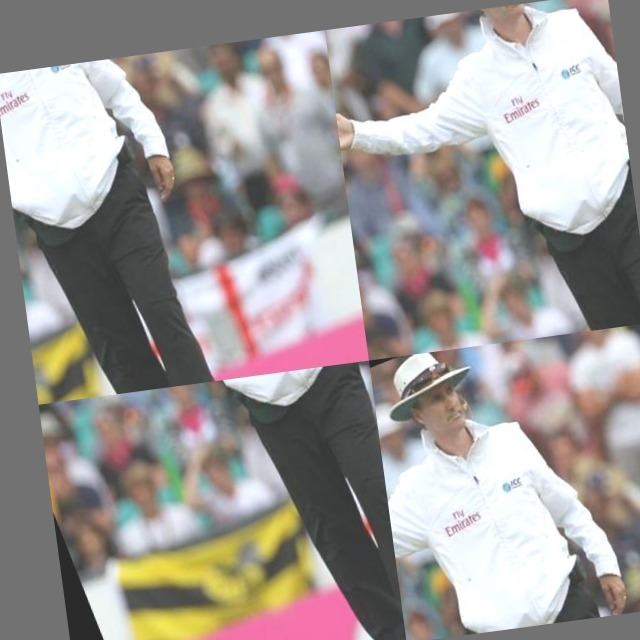No_Ball: (12, 30, 367, 390), (325, 0, 594, 360), (369, 323, 640, 640), (39, 375, 289, 631)
